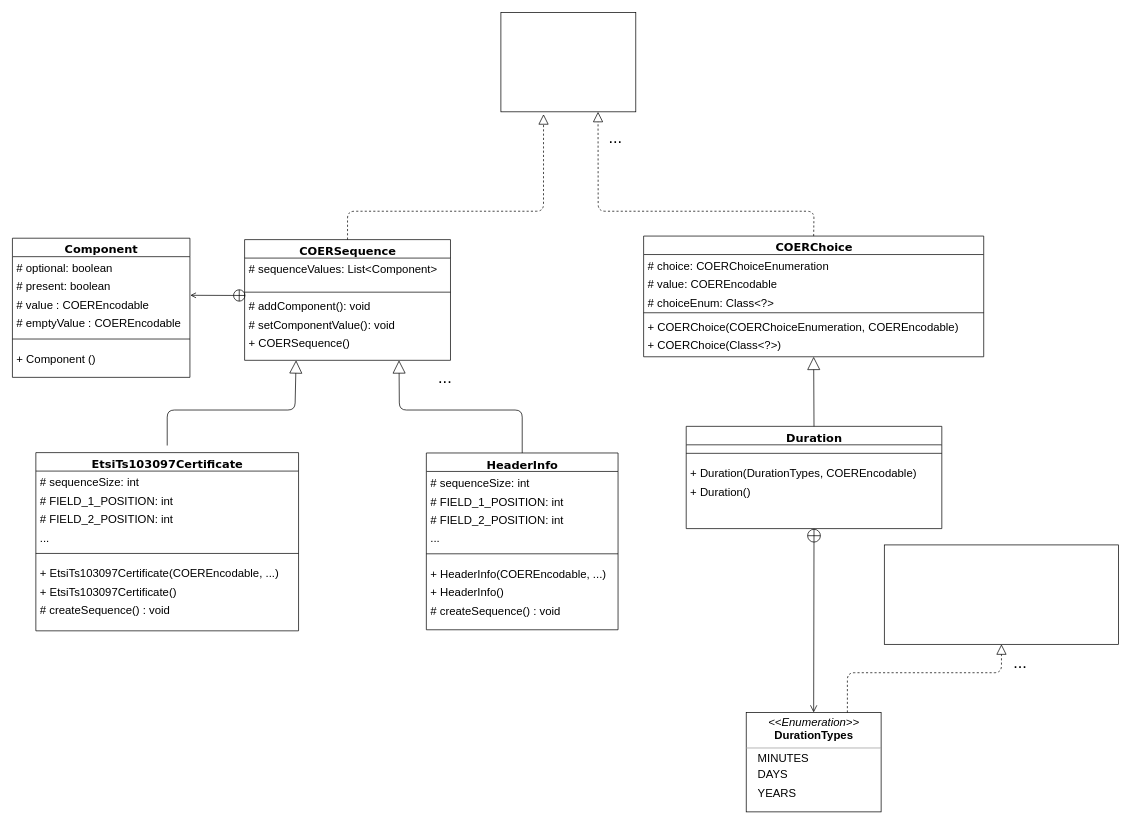
This 1131x824 diagram has some shape labels left out. Each missing label, with the centre of its shape:
"<<Interface>> COERChoiceEnumeration + GetEncodeType(): COEREncodable" goes at (x=1001, y=594).
"<<Interface>> COEREncodable + encode(): void + decode(): void" goes at (x=568, y=62).
